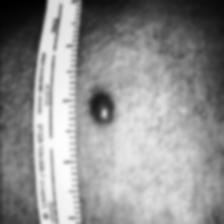Potentially Malignant Skin Tumors: (88, 86, 117, 134)
